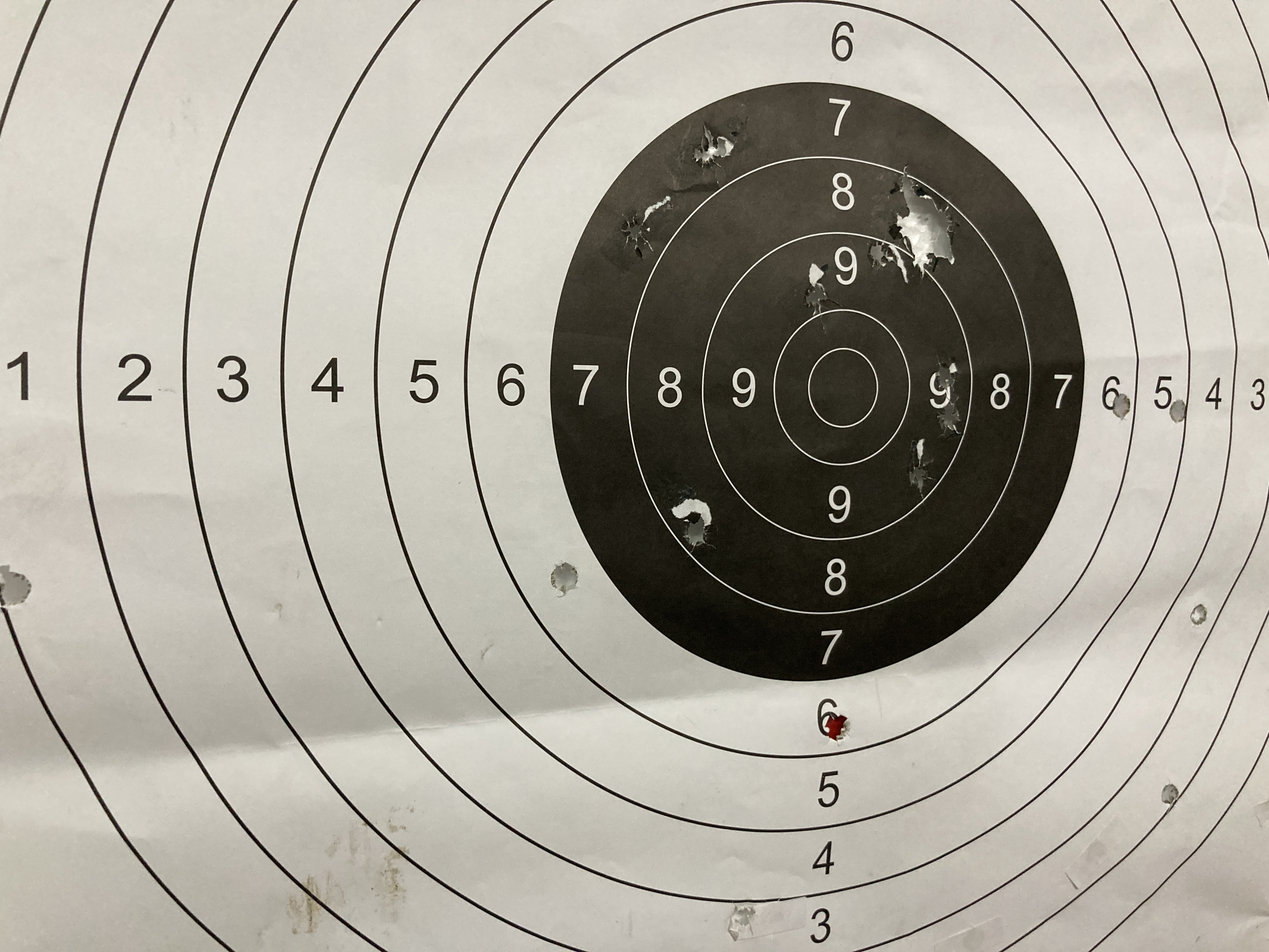hole: (887, 174, 968, 278), (684, 119, 749, 174), (720, 894, 771, 952), (658, 499, 728, 539), (618, 197, 663, 244), (798, 278, 841, 325), (0, 556, 55, 592), (932, 401, 981, 441), (930, 355, 975, 397), (1108, 382, 1144, 431), (537, 554, 592, 586), (904, 454, 938, 499), (862, 231, 896, 274), (1185, 597, 1215, 633), (1164, 395, 1195, 427), (1157, 781, 1187, 813)
